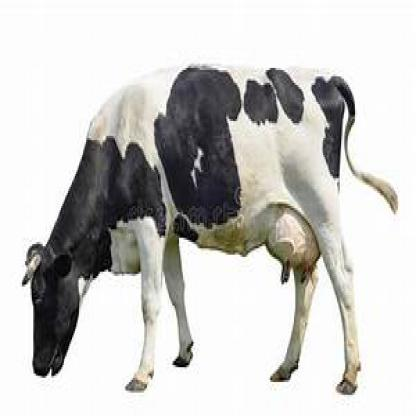cow: (22, 62, 398, 394)
